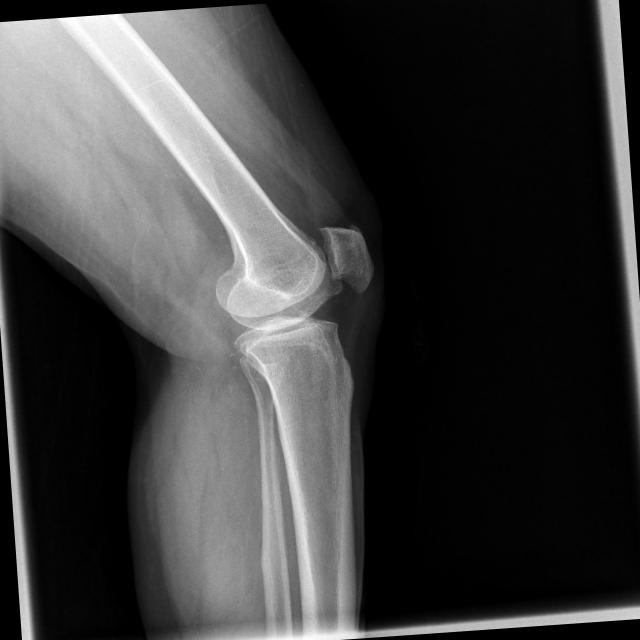Knee: (208, 210, 380, 394)
